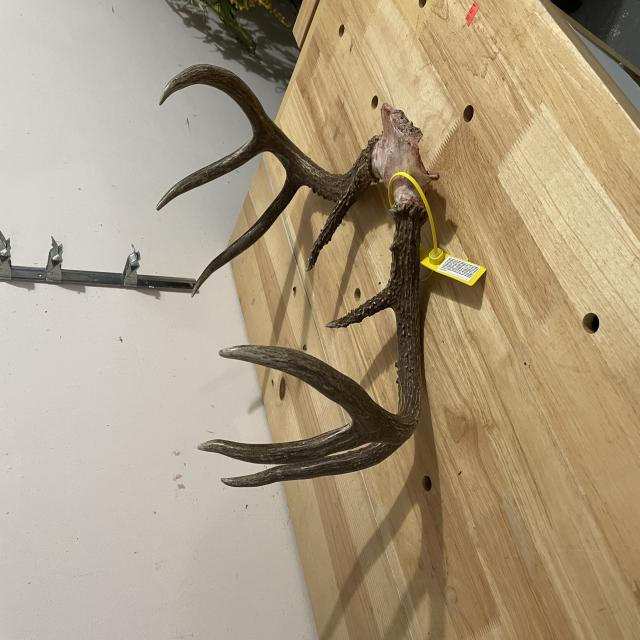L-F: (328, 211, 432, 507)
L-G1: (276, 407, 348, 486)
L-G2: (256, 254, 351, 407)
L-G3: (322, 207, 381, 359)
R-F: (147, 292, 329, 570)
R-G1: (234, 433, 268, 525)
R-G3: (131, 262, 164, 494)
